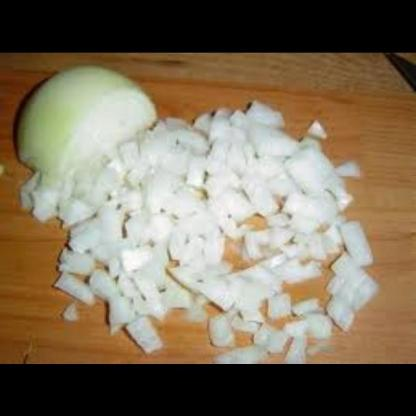onion: (20, 103, 386, 360), (10, 63, 164, 181)
